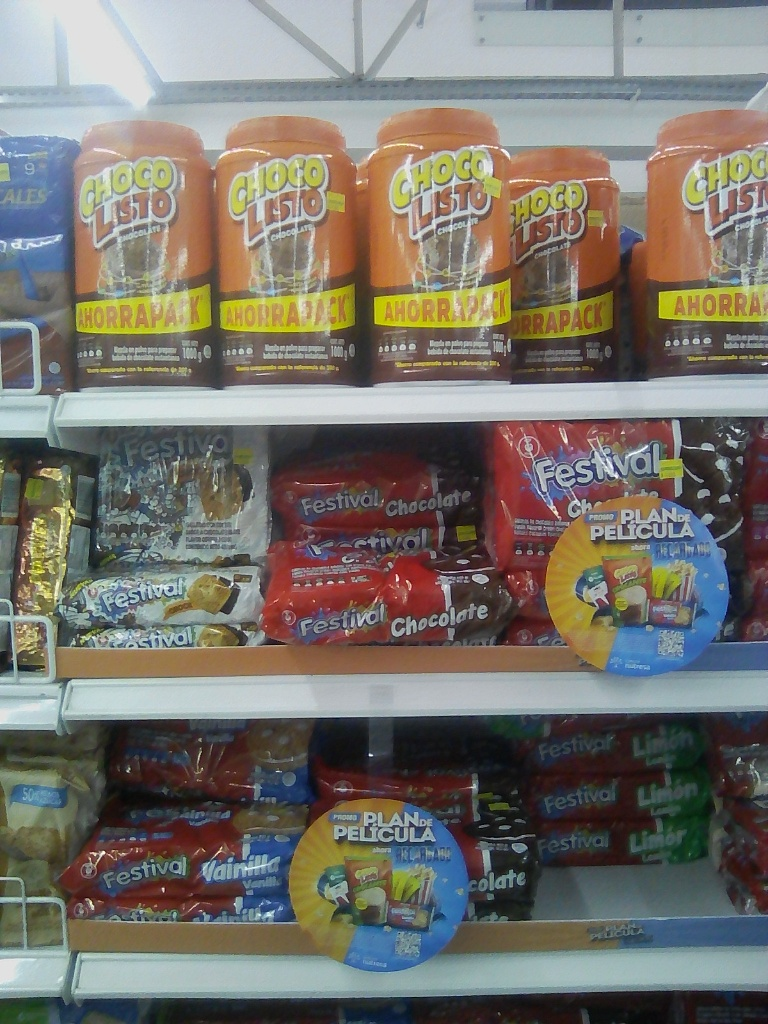COL0170103TRR00100: (70, 120, 217, 390)
